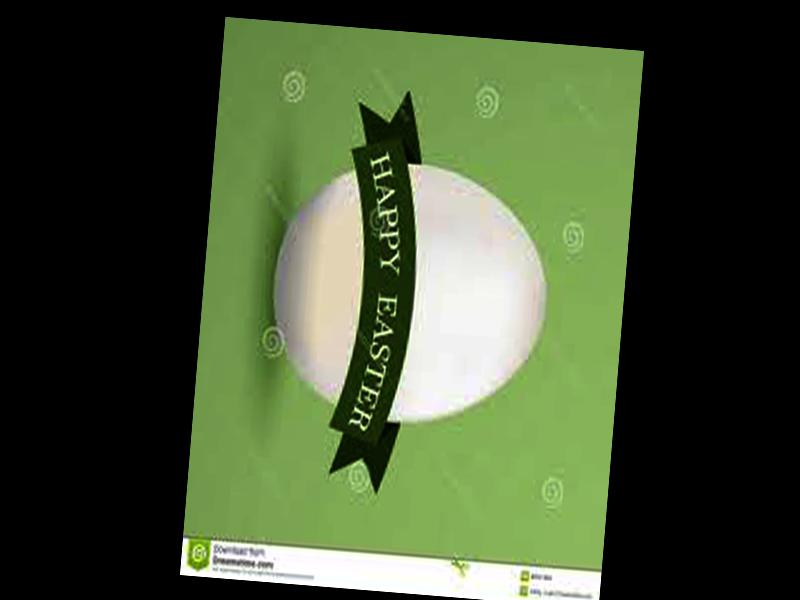Eggs: (264, 156, 555, 435)
